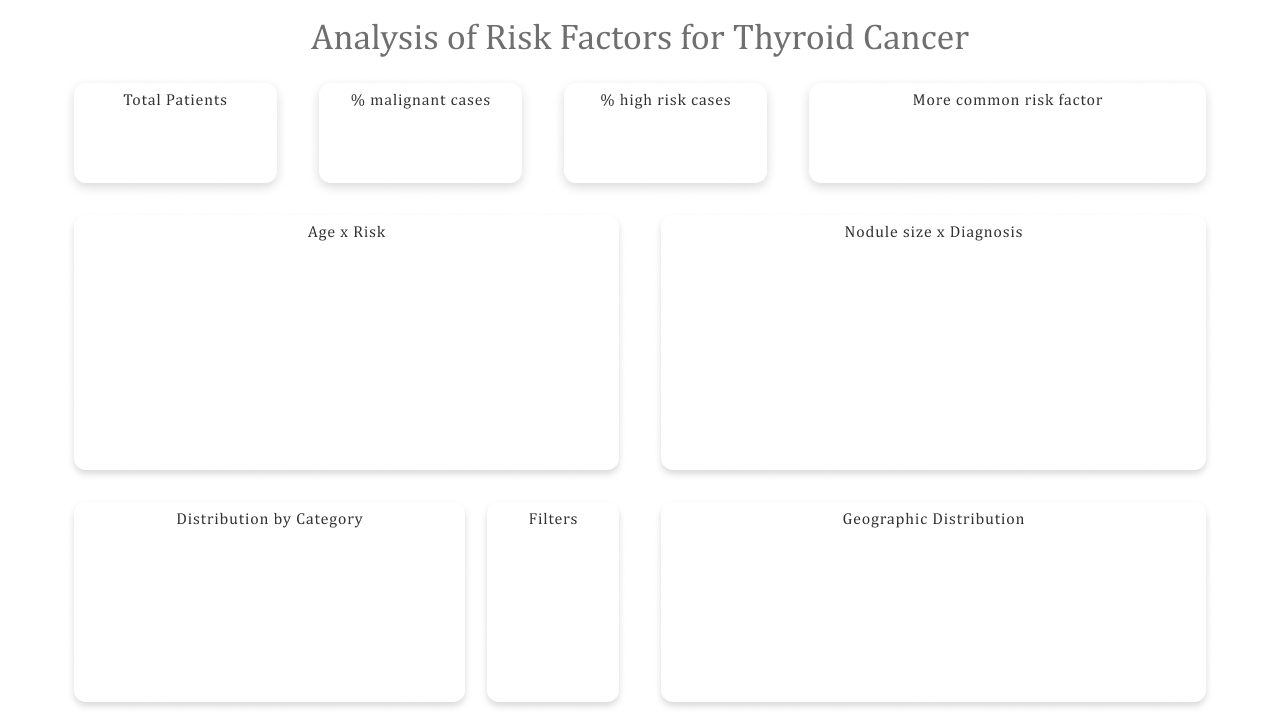

Layout of this report page (visuals, bound fields, positions):
{"tool":"powerbi","page":{"name":"RESUME","canvas":[1280,720],"ordinal":0},"visuals":[{"type":"map","fields":{"Category":["Malignant_casesxcountry.country"],"Size":["Sum(Malignant_casesxcountry.percentage_malignant)"]},"box":[81.2,532.5,1118.8,165],"z":0},{"type":"card","fields":{"Values":["Sum(Total_patients.total_patients)"]},"box":[79.6,107.4,189.4,68.8],"z":1000},{"type":"card","fields":{"Values":["Min(more_common_risk_factor.risk_factor)"]},"box":[816.8,107.4,382.4,68.8],"z":2000},{"type":"card","fields":{"Values":["malignantxbenign.% Casos Malignos"]},"box":[325.7,107.4,189.4,68.8],"z":3000},{"type":"card","fields":{"Values":["risk_distribution.% High risk"]},"box":[570.6,107.4,189.4,68.8],"z":4000},{"type":"lineChart","fields":{"Y":["AgexRisk.Média Risco por Faixa"],"Category":["AgexRisk.FaixaEtaria"]},"box":[80.8,236.5,530.8,226.8],"z":4001},{"type":"scatterChart","fields":{"X":["nodulexdiagnosis.NoduleSizeRange"],"Y":["nodulexdiagnosis.Malignant Probability"]},"box":[666,236.5,534.5,226.8],"z":4002}]}

Visuals, with their boxes in screenshot pixels (x1, y1, x2, y2), scaled from the page's 1280x720 canvas onto the 1280x720 screenshot:
map - Malignant_casesxcountry.country x Sum(Malignant_casesxcountry.percentage_malignant): 81,532,1200,698
card - Sum(Total_patients.total_patients): 80,107,269,176
card - Min(more_common_risk_factor.risk_factor): 817,107,1199,176
card - malignantxbenign.% Casos Malignos: 326,107,515,176
card - risk_distribution.% High risk: 571,107,760,176
lineChart - AgexRisk.Média Risco por Faixa x AgexRisk.FaixaEtaria: 81,236,612,463
scatterChart - nodulexdiagnosis.NoduleSizeRange x nodulexdiagnosis.Malignant Probability: 666,236,1200,463
